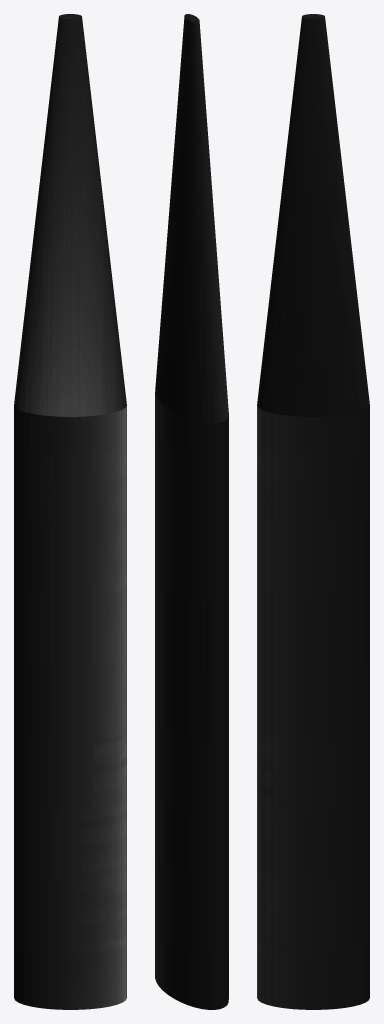
Rendered from my_min.obj.
3 views of the same model, side by side, from view 1: azimuth 90°, elevation 25°; view 2: azimuth 210°, elevation 25°; view 3: azimuth 270°, elevation 25° (orthographic).
Visible parts, largest first — view 1: Min; view 2: Min; view 3: Min.
Part boxes in pixels (box(x1,y1,x2,y2)): Min: box(14, 14, 126, 1009); Min: box(155, 14, 228, 1009); Min: box(257, 14, 369, 1009).
Size of the model in its own units: 0.0104 by 0.199 by 0.0207.
1 material, 1 textured.
